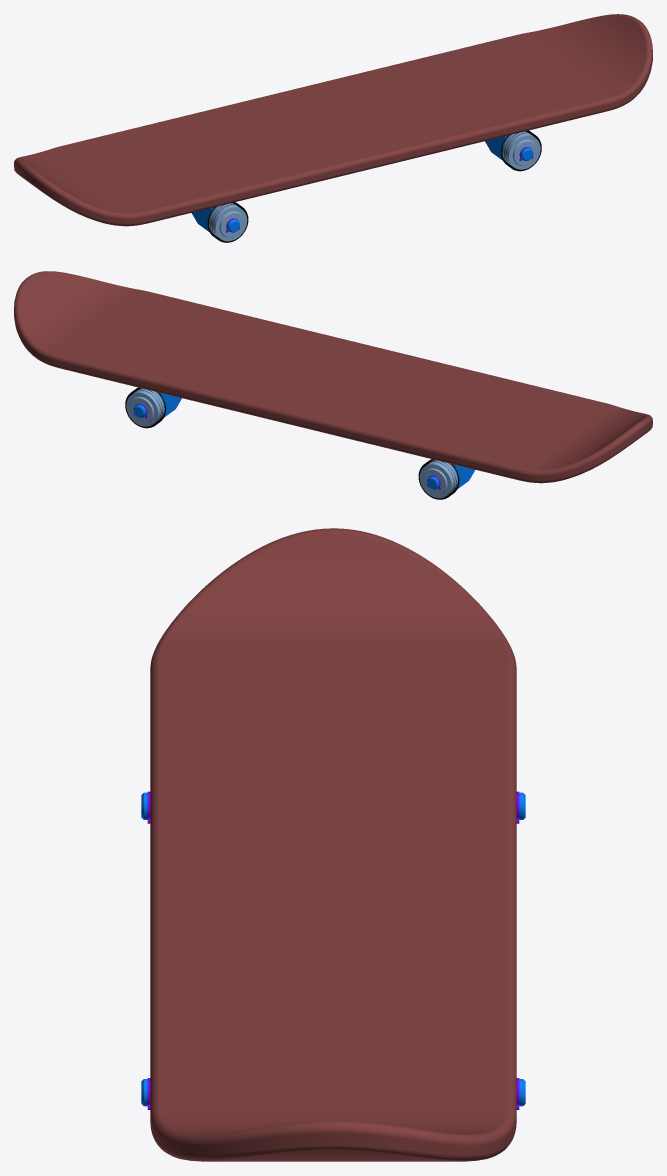
Rendered from Skate-Board-Assy.obj.
The picture shows the model from 3 angles, top to bottom: view 1: azimuth 30°, elevation 25°; view 2: azimuth 150°, elevation 25°; view 3: azimuth 270°, elevation 25°; orthographic projection. The views are drawn at different scales.
Visible parts, largest first — view 1: Skate Board assy/Skate Board Body, Skate Board assy/Wheel Axle Assy/Wheel Tire Assy/Wheel, Skate Board assy/Wheel Axle Assy/Axle, Skate Board assy/Wheel Axle Assy/Wheel Tire Assy/Tire; view 2: Skate Board assy/Skate Board Body, Skate Board assy/Wheel Axle Assy/Wheel Tire Assy/Wheel, Skate Board assy/Wheel Axle Assy/Axle, Skate Board assy/Wheel Axle Assy/Wheel Tire Assy/Tire; view 3: Skate Board assy/Skate Board Body.
Boxes of the visible parts, x1,y1,x2,y2 form: Skate Board assy/Skate Board Body: (14, 14, 652, 226); Skate Board assy/Wheel Axle Assy/Wheel Tire Assy/Wheel: (208, 131, 540, 241); Skate Board assy/Wheel Axle Assy/Axle: (191, 136, 533, 232); Skate Board assy/Wheel Axle Assy/Wheel Tire Assy/Tire: (207, 130, 541, 242); Skate Board assy/Skate Board Body: (14, 271, 652, 483); Skate Board assy/Wheel Axle Assy/Wheel Tire Assy/Wheel: (126, 388, 458, 498); Skate Board assy/Wheel Axle Assy/Axle: (133, 393, 475, 489); Skate Board assy/Wheel Axle Assy/Wheel Tire Assy/Tire: (125, 387, 459, 499); Skate Board assy/Skate Board Body: (150, 528, 516, 1161).
Bounding box in the file's own units: 1550 × 195 × 420.
